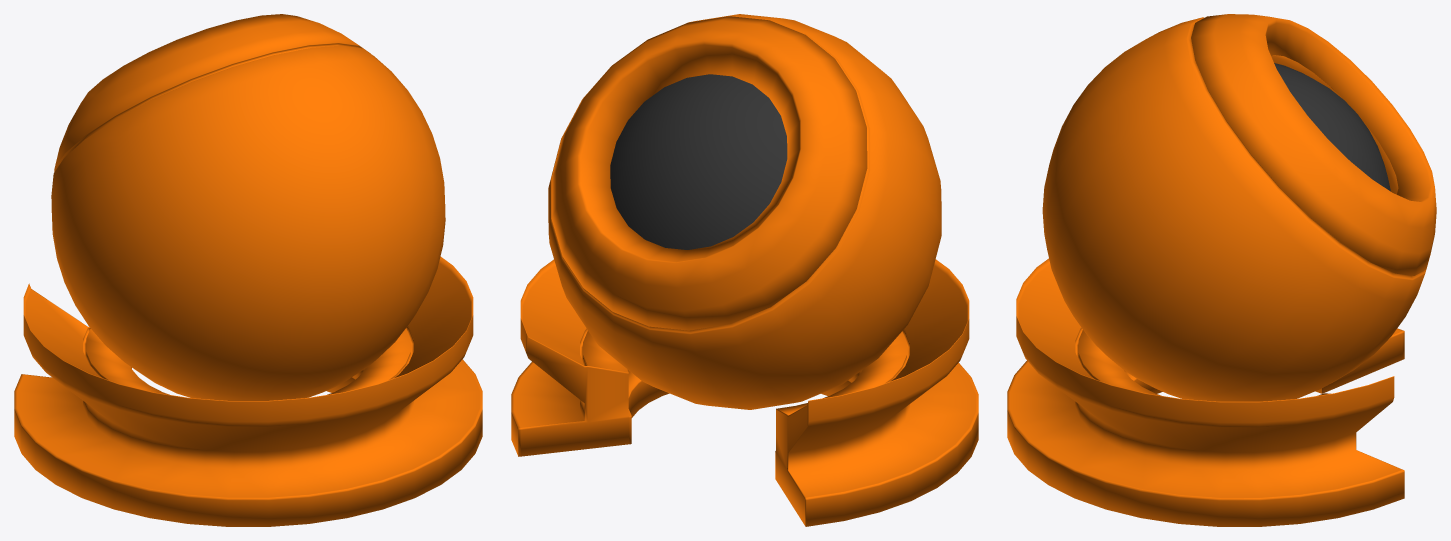
File: testObj.obj
3 views of the same model, side by side, from view 1: azimuth 30°, elevation 25°; view 2: azimuth 150°, elevation 25°; view 3: azimuth 270°, elevation 25° (orthographic).
Parts seen in each view (by area): view 1: OuterMat; view 2: OuterMat, InnerMat; view 3: OuterMat, InnerMat.
Part boxes in pixels (box(x1,y1,x2,y2)): OuterMat: box(14, 14, 482, 526); OuterMat: box(511, 14, 978, 526); InnerMat: box(610, 74, 787, 249); OuterMat: box(1007, 14, 1436, 526); InnerMat: box(1274, 63, 1390, 191).
Size of the model in its own units: 1.08 by 1.02 by 0.9993.
